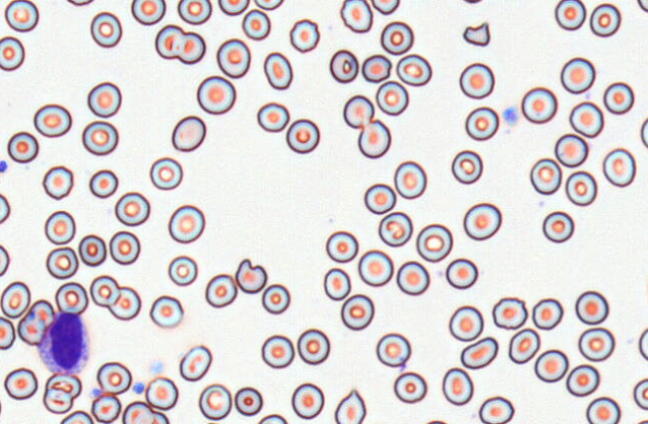MONO: (38, 308, 92, 376)
PLT: (502, 106, 521, 126), (133, 382, 144, 394), (0, 159, 8, 173), (90, 387, 101, 397)
RBC: (17, 299, 55, 345), (42, 372, 81, 414), (196, 75, 236, 114), (462, 202, 501, 240), (168, 204, 205, 243), (415, 223, 452, 262), (357, 118, 391, 158), (216, 38, 250, 78), (602, 147, 636, 187), (357, 249, 393, 286), (521, 86, 557, 123), (33, 103, 72, 137), (560, 57, 595, 94), (81, 120, 118, 155), (171, 115, 206, 152), (569, 101, 604, 138), (459, 62, 494, 99), (577, 327, 615, 361), (393, 160, 426, 199), (448, 305, 483, 341), (114, 191, 150, 226), (198, 383, 232, 420), (340, 293, 374, 330), (296, 328, 330, 365), (529, 157, 562, 195), (375, 332, 410, 367), (378, 211, 412, 247), (87, 81, 121, 117), (179, 344, 212, 381), (291, 382, 324, 419), (441, 367, 473, 405), (107, 285, 141, 320), (575, 290, 609, 325), (285, 118, 319, 153), (464, 106, 499, 140), (96, 361, 132, 394), (491, 296, 527, 329), (396, 53, 432, 86), (508, 327, 540, 364), (54, 281, 88, 315), (554, 133, 588, 167), (565, 363, 599, 397), (149, 156, 183, 190), (3, 367, 38, 400), (396, 260, 429, 295), (375, 80, 408, 115), (380, 20, 413, 55), (565, 170, 597, 206), (90, 11, 122, 47), (263, 51, 292, 90), (145, 376, 178, 410), (534, 349, 568, 382), (149, 295, 183, 328), (261, 334, 294, 368), (205, 273, 237, 308), (108, 230, 140, 265), (4, 0, 39, 32), (451, 149, 483, 184), (0, 281, 30, 318), (339, 0, 372, 33), (45, 246, 78, 279), (342, 94, 374, 128), (393, 371, 427, 403), (589, 3, 621, 37), (445, 257, 478, 289), (531, 297, 563, 330), (542, 210, 574, 243), (325, 230, 358, 262), (42, 165, 73, 199), (44, 210, 75, 244), (154, 24, 184, 59), (89, 274, 120, 307), (256, 101, 289, 132), (363, 183, 396, 214), (603, 81, 634, 114), (289, 18, 319, 52), (478, 395, 514, 423), (7, 131, 38, 163), (175, 31, 205, 64), (329, 49, 358, 83), (554, 0, 586, 30), (585, 396, 620, 423), (90, 393, 121, 423), (167, 255, 197, 286), (241, 8, 270, 40), (323, 267, 351, 300), (0, 35, 25, 71), (261, 283, 290, 314), (78, 234, 106, 266), (130, 0, 165, 25), (177, 0, 212, 25), (89, 169, 118, 198), (234, 386, 262, 416), (122, 400, 154, 423), (0, 316, 15, 350), (217, 0, 249, 15), (633, 377, 647, 410), (60, 410, 93, 423), (371, 0, 399, 15), (638, 327, 648, 360), (0, 192, 10, 224), (253, 0, 284, 10), (257, 413, 287, 423), (0, 244, 9, 276), (640, 116, 648, 148), (151, 410, 169, 423), (66, 0, 94, 6), (644, 269, 648, 306), (637, 0, 648, 12), (425, 419, 447, 424), (461, 0, 484, 4)
Schistocyte: (333, 387, 370, 424), (459, 337, 499, 370), (235, 259, 267, 296), (363, 52, 393, 83), (462, 21, 492, 47)
